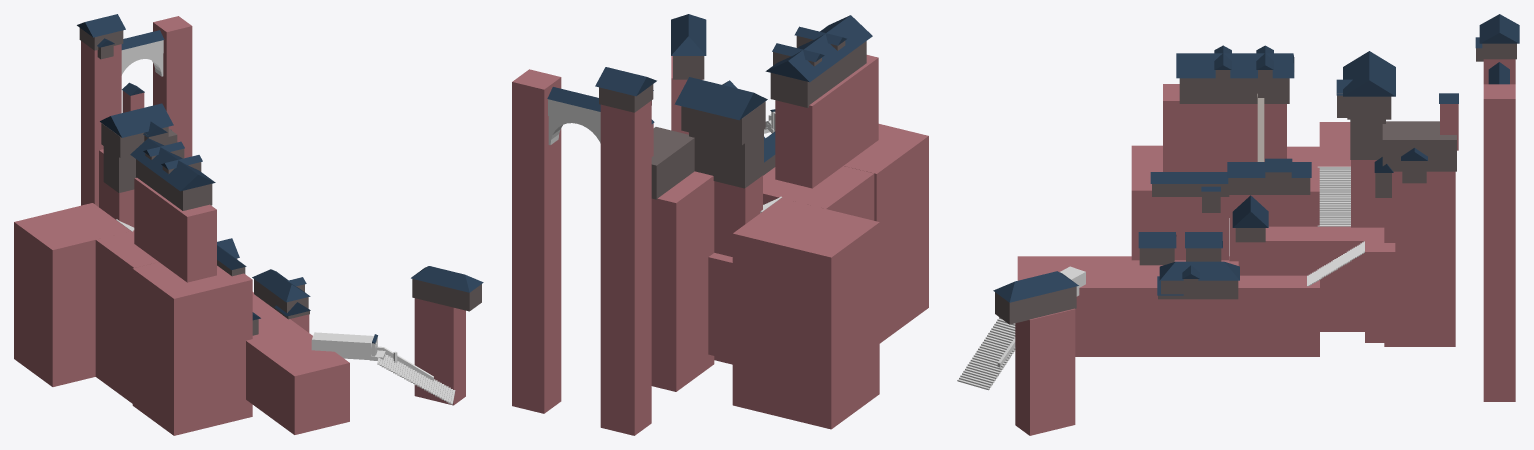
Rendered from SM_blockout_01.fbx.
The picture shows the model from 3 angles, left to right: view 1: azimuth 30°, elevation 25°; view 2: azimuth 150°, elevation 25°; view 3: azimuth 270°, elevation 25°; orthographic projection. The views are drawn at different scales.
Parts seen in each view (by area): view 1: Cube.003, Cube.021, Cube.020, Cube.002, Cube.017, Box014, Box003, Box016, Box012.017, Box012.016, Box012.007, Box012.002 (+12 smaller); view 2: Cube.021, Box014, Box016, Box006, Cube.003, Cube.017, Cube.002, Box012.041, Box012.017, Box002, Box005, Box012.008 (+13 smaller); view 3: Cube.020, Box005, Box006, Box016, Cube.017, Box003, Cube.003, Box001, Cube.002, Box012.008, Box012.017, Box012.016 (+25 smaller).
Part boxes in pixels (box(x1,y1,x2,y2)): Cube.003: box(132, 262, 252, 435); Cube.021: box(14, 203, 130, 386); Cube.020: box(246, 292, 349, 434); Cube.002: box(95, 230, 158, 403); Cube.017: box(134, 177, 216, 282); Box014: box(81, 41, 121, 206); Box003: box(414, 298, 465, 405); Box016: box(153, 16, 192, 158); Box012.017: box(130, 138, 215, 191); Box012.016: box(136, 159, 212, 210); Box012.007: box(100, 103, 173, 137); Box012.002: box(412, 279, 481, 311); Cube.021: box(732, 198, 879, 429); Box014: box(600, 100, 651, 435); Box016: box(512, 69, 561, 413); Box006: box(651, 171, 714, 391); Cube.003: box(843, 124, 928, 343); Cube.017: box(775, 55, 878, 188); Cube.002: box(763, 166, 874, 220); Box012.041: box(689, 129, 763, 188); Box012.017: box(765, 15, 872, 82); Box002: box(714, 175, 762, 364); Box005: box(708, 253, 732, 360); Box012.008: box(651, 127, 694, 199); Cube.020: box(1017, 256, 1319, 356); Box005: box(1238, 226, 1395, 342); Box006: box(1384, 171, 1455, 346); Box016: box(1483, 84, 1515, 401); Cube.017: box(1163, 84, 1286, 217); Box003: box(1015, 308, 1075, 435); Cube.003: box(1131, 145, 1228, 260); Box001: box(1158, 299, 1236, 349); Cube.002: box(1229, 146, 1319, 261); Box012.008: box(1382, 121, 1456, 171); Box012.017: box(1176, 53, 1294, 78); Box012.016: box(1179, 78, 1289, 103).
Bounding box in the file's own units: 5033 × 4713 × 6995.
